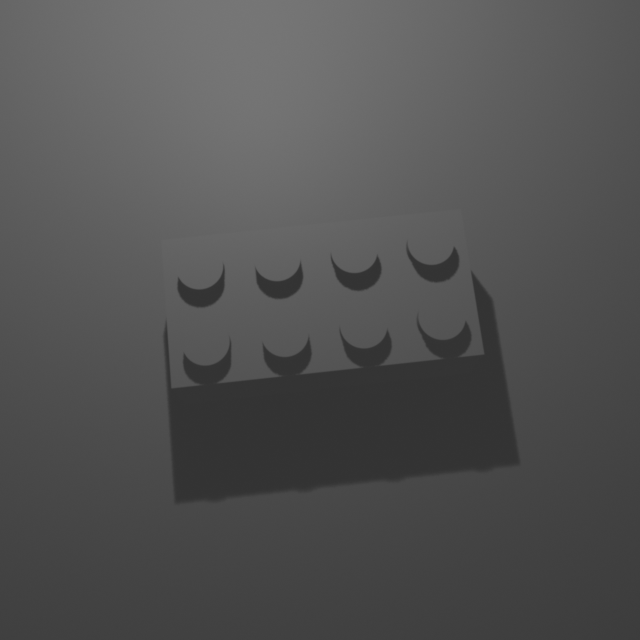lego_2x4: (159, 203, 487, 404)
